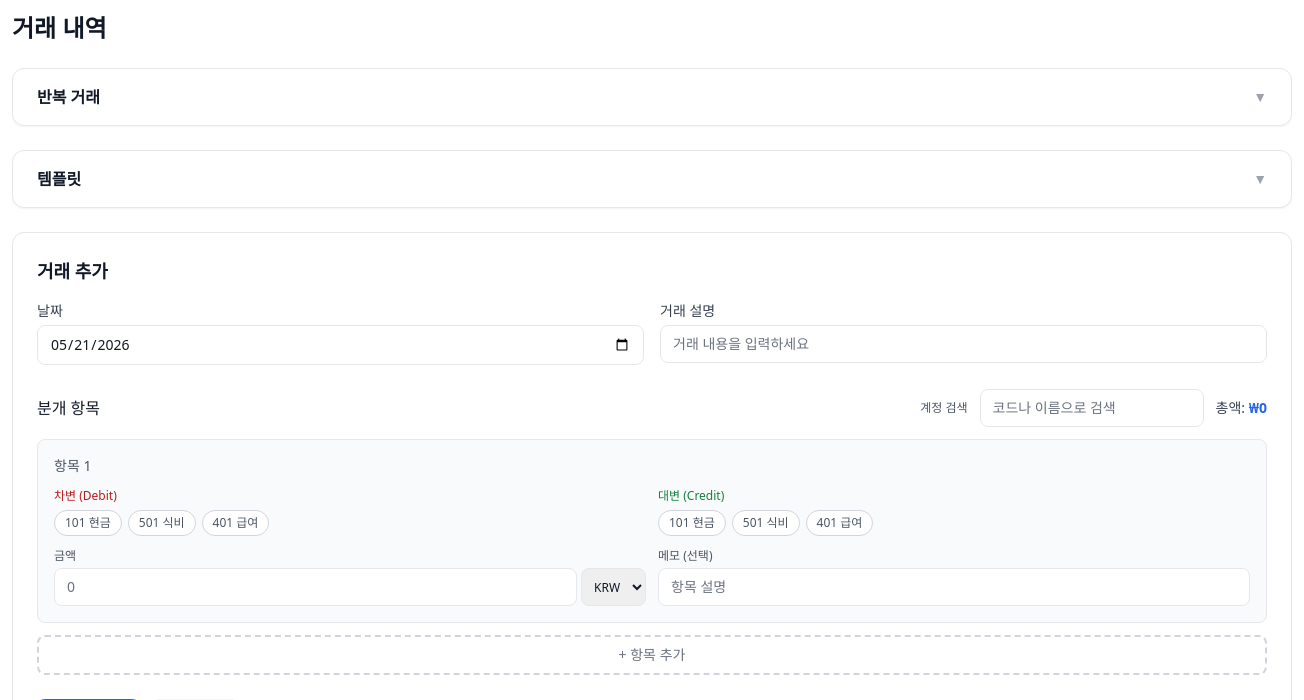
Scenario: TransactionsPage › 계정 검색 필터가 동작한다
Expected: the number of buttons "101 현금" is 6, x1=54 y1=510 x2=122 y2=536; x1=128 y1=510 x2=196 y2=536; x1=202 y1=510 x2=269 y2=536; x1=658 y1=510 x2=726 y2=536; x1=732 y1=510 x2=800 y2=536; x1=806 y1=510 x2=873 y2=536
Step 1. Type "현금" into the field labelled "계정 검색" → (1092, 408), box x1=980 y1=389 x2=1204 y2=427
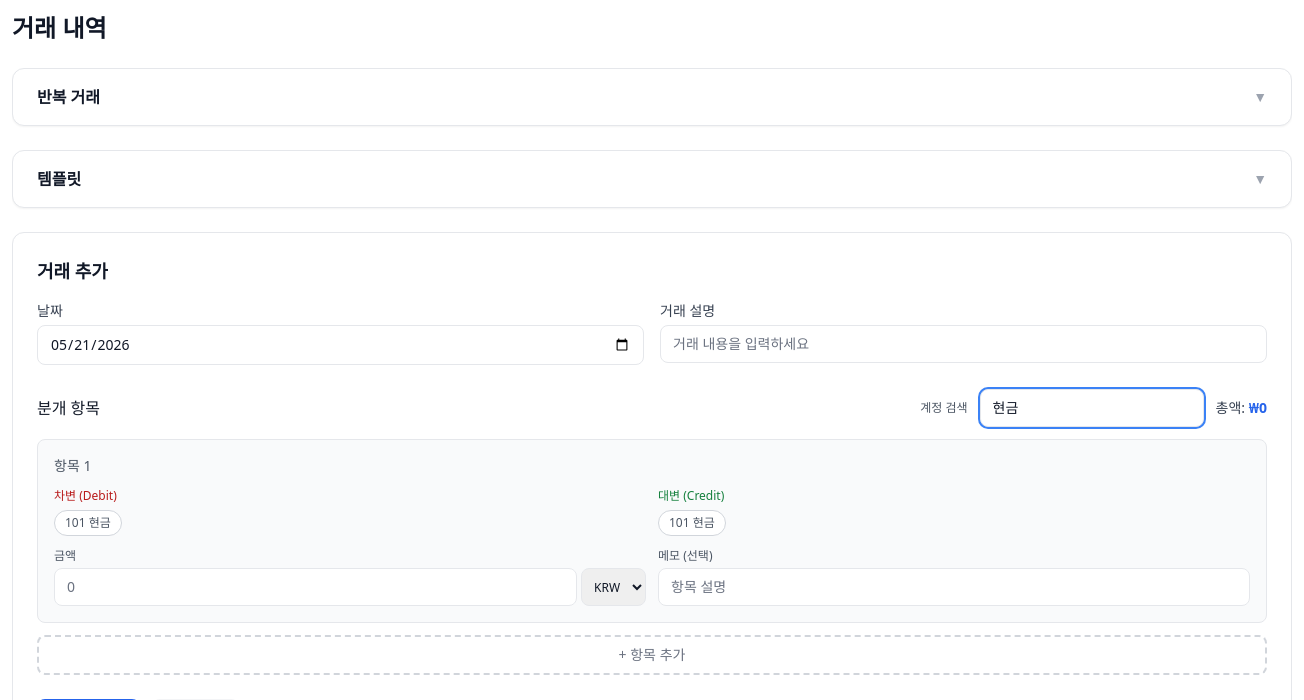
Expected: the number of buttons "101 현금" is 2, x1=54 y1=510 x2=122 y2=536; x1=658 y1=510 x2=726 y2=536
Expected: the button "501 식비" is gone
Expected: the button "401 급여" is gone
